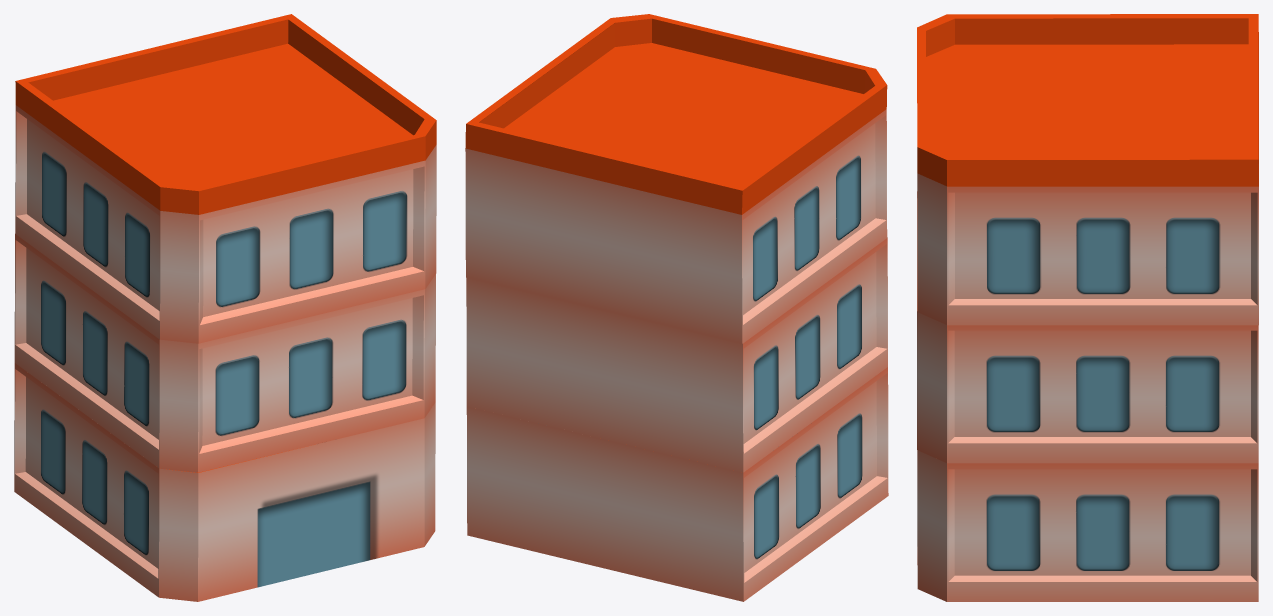
The model's file is Building 3.fbx.
3 views of the same model, side by side, from view 1: azimuth 30°, elevation 25°; view 2: azimuth 150°, elevation 25°; view 3: azimuth 270°, elevation 25° (orthographic). The views are drawn at different scales.
Visible parts, largest first — view 1: Building_3; view 2: Building_3; view 3: Building_3.
Part boxes in pixels (x1,y1,x2,y2): Building_3: (14, 14, 436, 601); Building_3: (465, 14, 888, 601); Building_3: (917, 14, 1258, 601).
Size of the model in its own units: 83.24 by 118 by 82.34.
